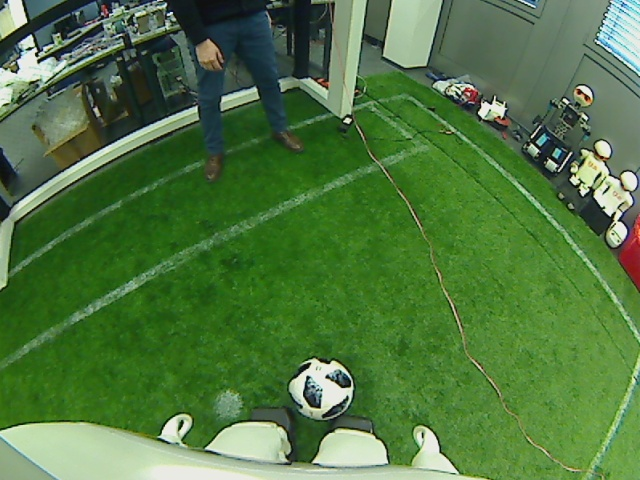ball: (286, 355, 358, 424)
